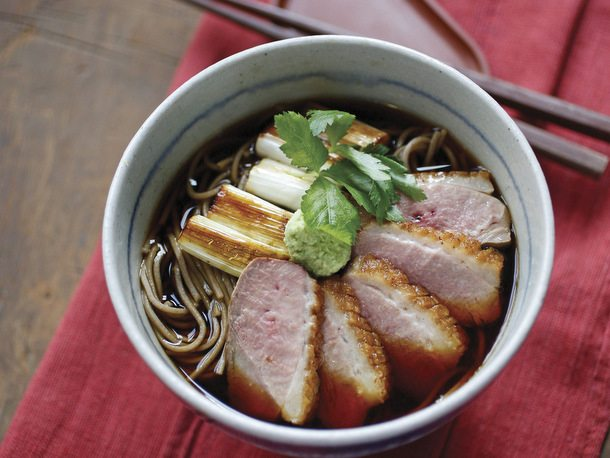Soba: (135, 242, 232, 383)
